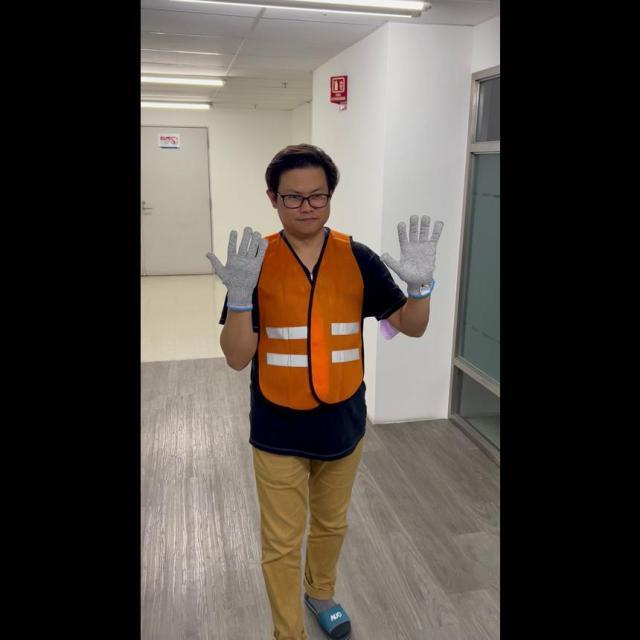gloved_hand: (205, 220, 269, 309), (379, 209, 442, 295)
